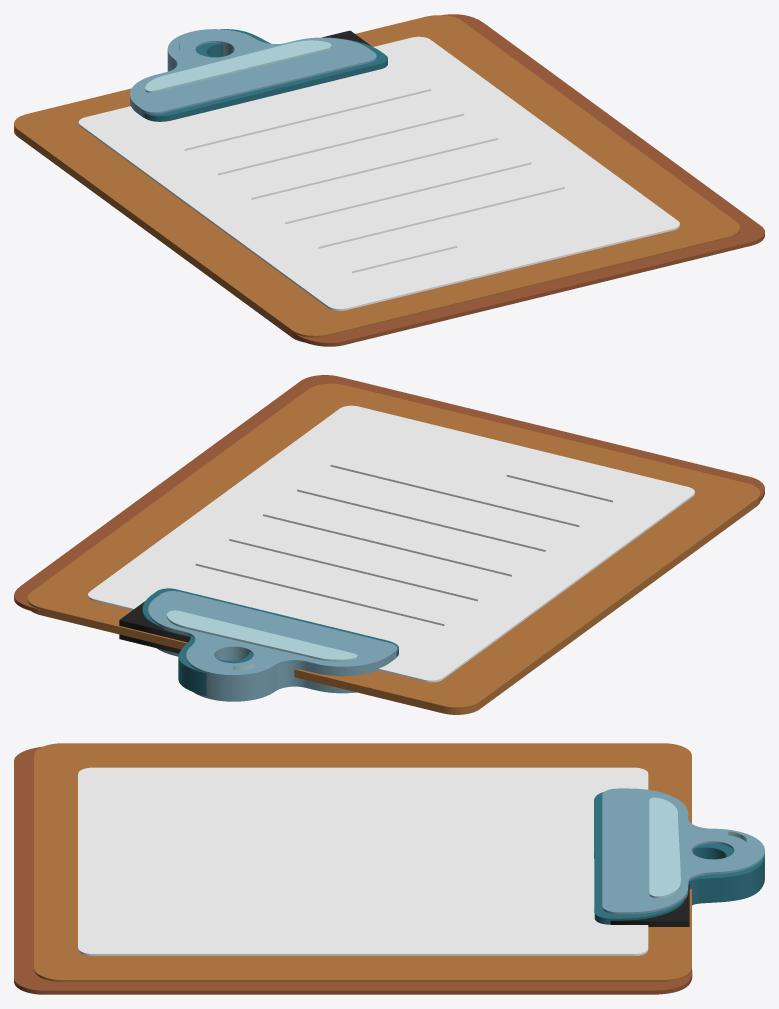
Rendered from emoji_u1f4cb.glb.
3 renders of one model, top to bottom at view 1: azimuth 30°, elevation 25°; view 2: azimuth 150°, elevation 25°; view 3: azimuth 270°, elevation 25°, orthographic. The views are drawn at different scales.
Visible parts, largest first — view 1: emoji_u1f4cb; view 2: emoji_u1f4cb; view 3: emoji_u1f4cb.
Part boxes in pixels (x1,y1,x2,y2): emoji_u1f4cb: [14, 14, 764, 346]; emoji_u1f4cb: [14, 375, 764, 714]; emoji_u1f4cb: [14, 743, 764, 994].
Bounding box in the file's own units: 0.0256 × 0.0018 × 0.0331.
